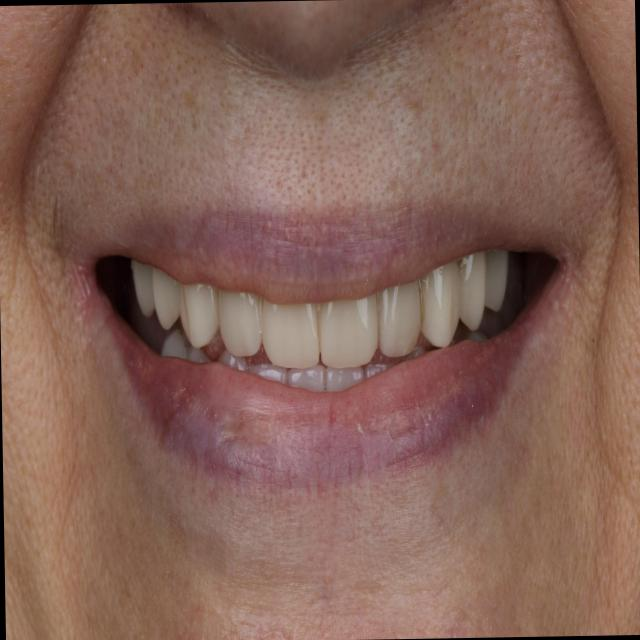Tooth: (317, 293, 378, 368), (260, 297, 319, 368), (416, 260, 460, 347), (376, 279, 421, 357), (218, 289, 262, 356), (179, 283, 219, 347), (455, 251, 486, 330), (151, 266, 180, 329), (484, 249, 508, 311), (131, 259, 154, 317)
